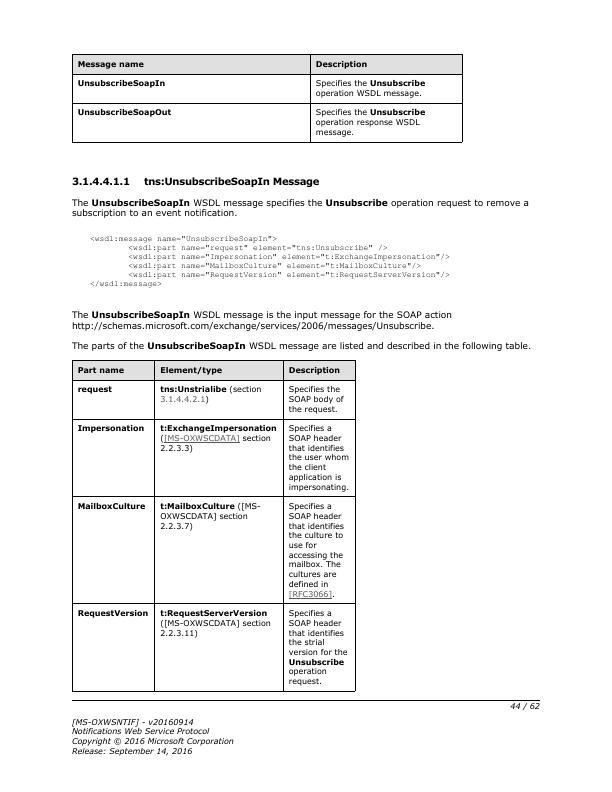table: (71, 360, 357, 694), (70, 52, 466, 147)
text: (85, 232, 452, 290), (68, 195, 530, 220), (67, 307, 452, 332), (68, 337, 533, 353), (67, 715, 235, 757), (68, 174, 322, 189)
